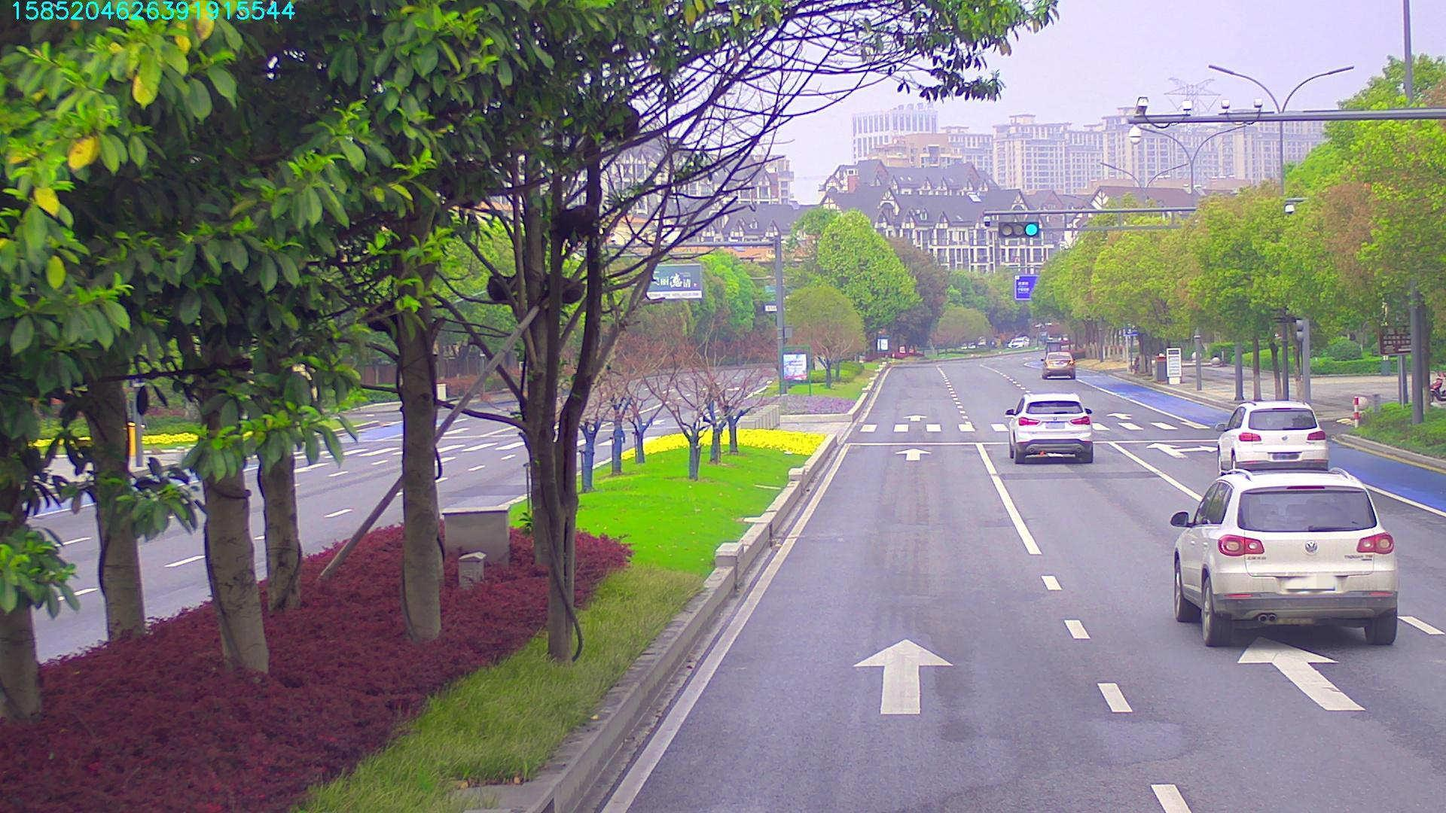green: (999, 220, 1042, 239)
